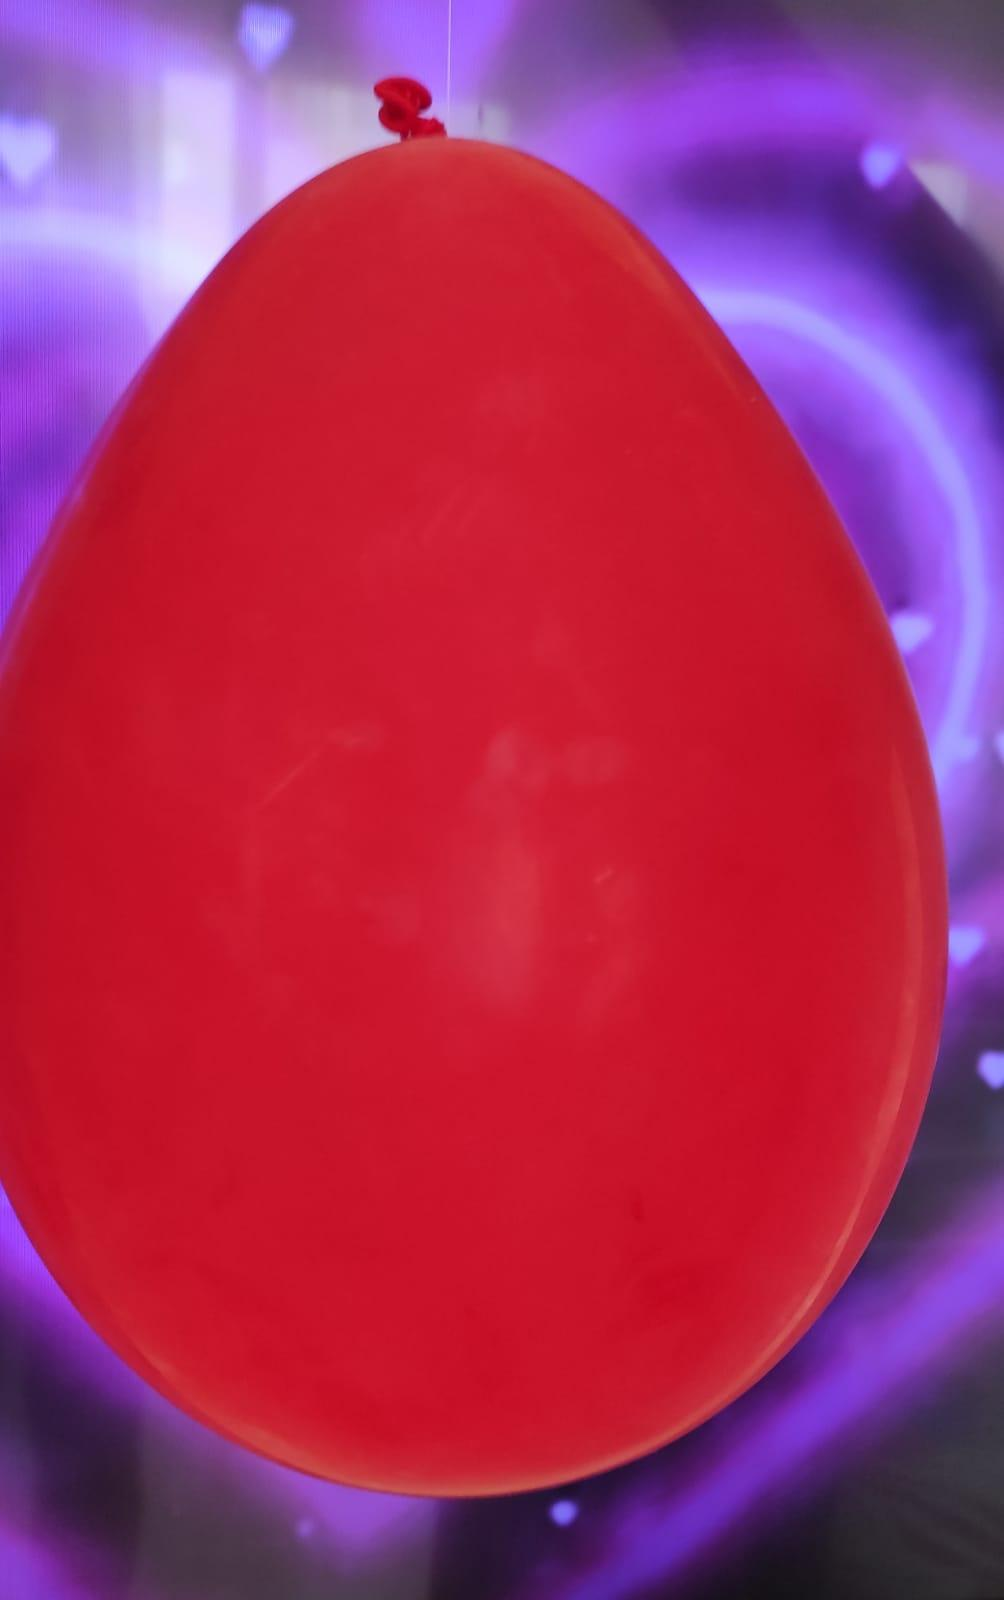red: (0, 58, 962, 1488)
